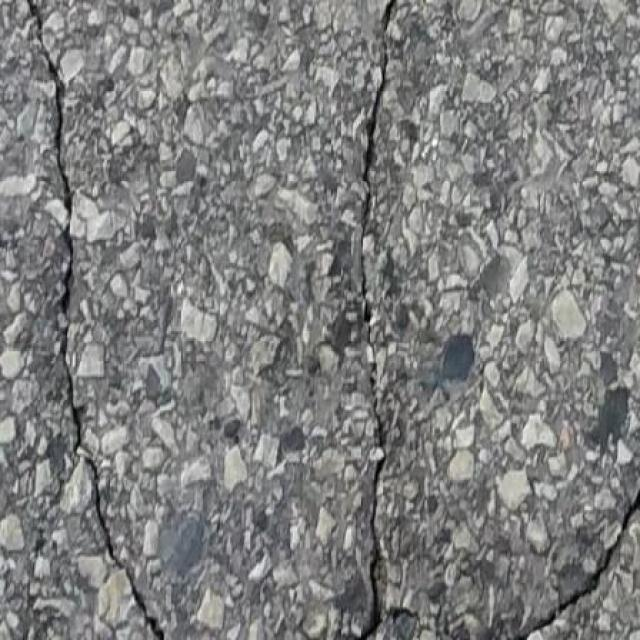Crack: (32, 4, 99, 469), (515, 494, 640, 639), (100, 482, 170, 640), (361, 0, 400, 271), (355, 529, 421, 639), (360, 274, 388, 507), (430, 620, 468, 639)
